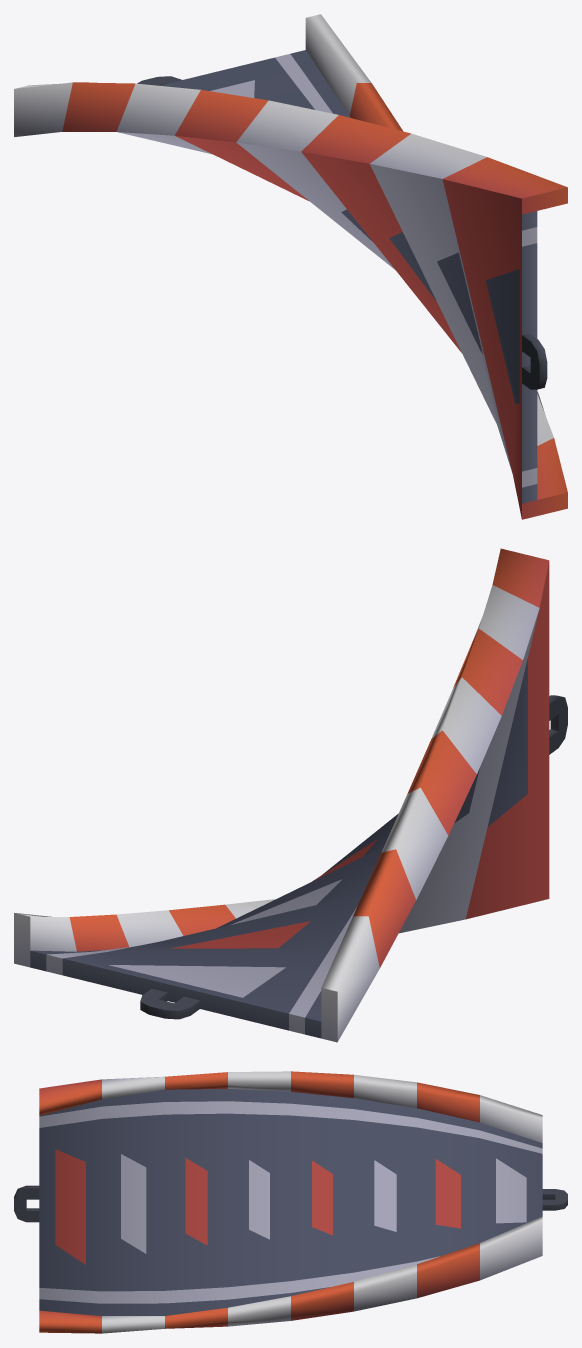
The model's file is track-road-wide-straight-skew-left-side.glb.
The picture shows the model from 3 angles, top to bottom: view 1: azimuth 30°, elevation 25°; view 2: azimuth 150°, elevation 25°; view 3: azimuth 270°, elevation 25°; orthographic projection. The views are drawn at different scales.
Visible parts, largest first — view 1: track-road-wide-straight-skew-left-side; view 2: track-road-wide-straight-skew-left-side; view 3: track-road-wide-straight-skew-left-side.
Boxes of the visible parts, x1,y1,x2,y2 form: track-road-wide-straight-skew-left-side: (14,14,567,519); track-road-wide-straight-skew-left-side: (14,548,567,1042); track-road-wide-straight-skew-left-side: (14,1071,567,1333).
Size of the model in its own units: 2.04 by 2.04 by 4.4.
